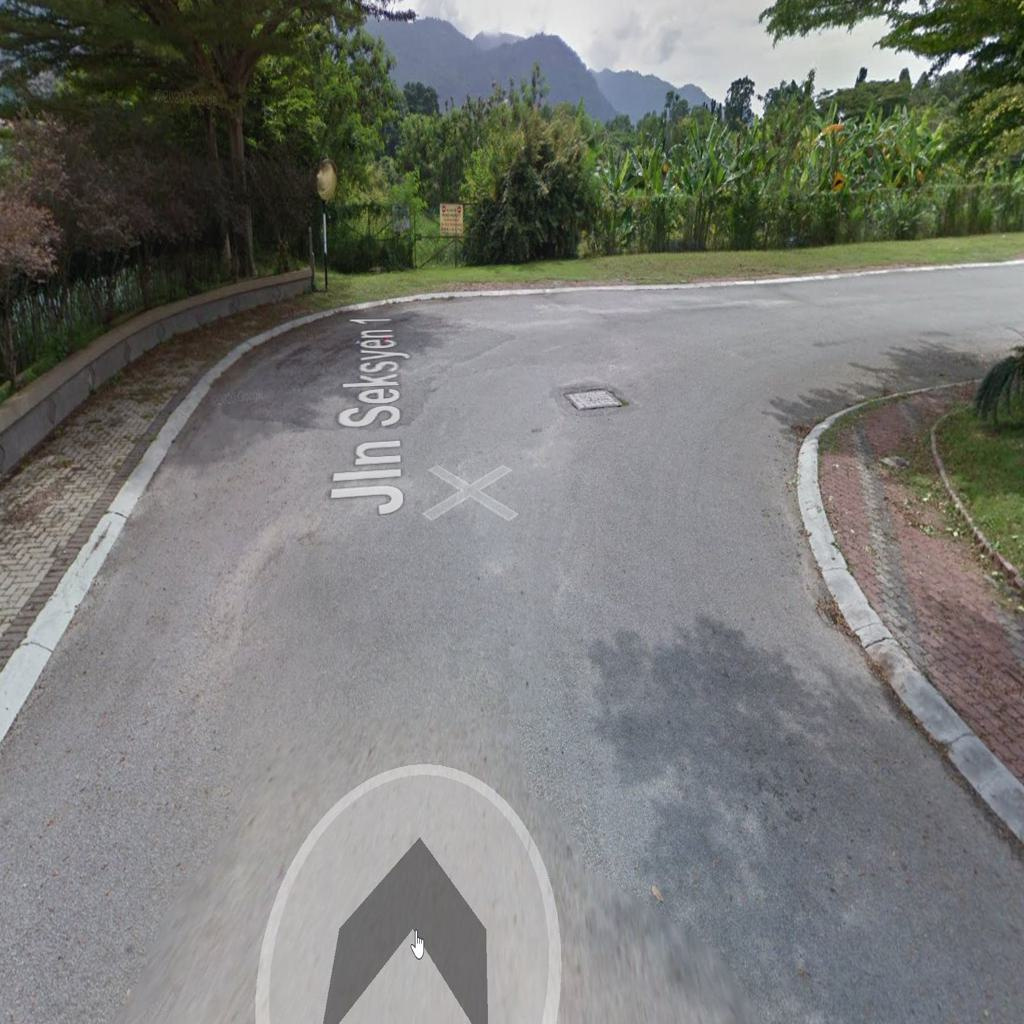Junction: (687, 238, 1019, 620)
